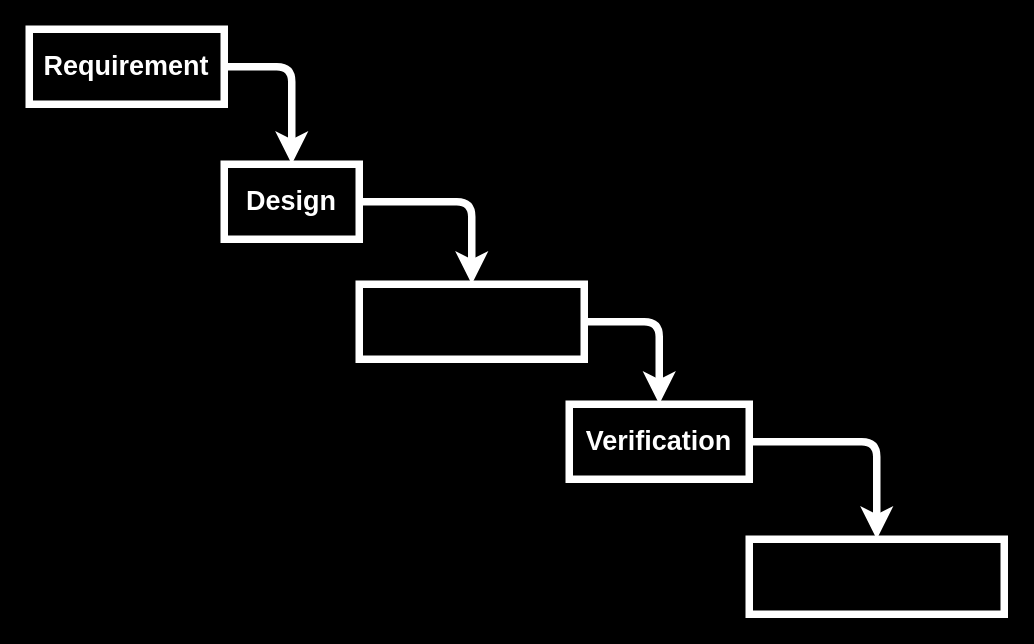
Image size: 1034x644. Some labels were removed from this diagram. Each missing label, with the centre of its shape:
"Implementation" belongs at point 471,321.
"Maintainance" belongs at point 876,576.
